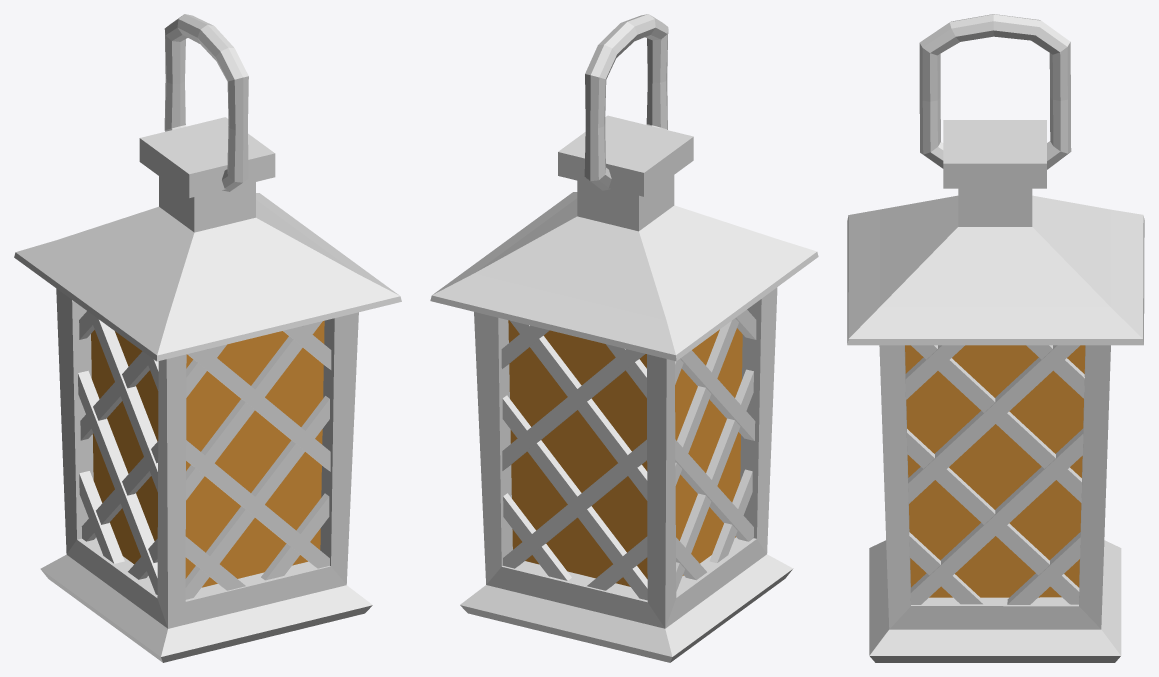
The model's file is SM_Lantern_Medium_Hanging_03.fbx.
The picture shows the model from 3 angles, left to right: view 1: azimuth 30°, elevation 25°; view 2: azimuth 150°, elevation 25°; view 3: azimuth 270°, elevation 25°; orthographic projection. The views are drawn at different scales.
Parts seen in each view (by area): view 1: Cube.121, Torus.006, Cube.147, Cube.127, Cube.123, Cube.126, Cube.122, Cube.146, Cube.149, Cube.129, Cube.151, Cube.150 (+3 smaller); view 2: Cube.121, Torus.006, Cube.143, Cube.139, Cube.142, Cube.138, Cube.151, Cube.147, Cube.150, Cube.146, Cube.145, Cube.153 (+4 smaller); view 3: Cube.121, Torus.006, Cube.155, Cube.154, Cube.159, Cube.158, Cube.157, Cube.161, Cube.156, Cube.160.
Part boxes in pixels (x1,y1,x2,y2): Cube.121: [14, 117, 401, 662]; Torus.006: [164, 14, 248, 191]; Cube.147: [78, 370, 157, 594]; Cube.127: [185, 396, 329, 599]; Cube.123: [186, 440, 329, 568]; Cube.126: [186, 321, 322, 500]; Cube.122: [187, 349, 330, 471]; Cube.146: [88, 311, 157, 491]; Cube.149: [79, 471, 124, 563]; Cube.129: [261, 493, 329, 580]; Cube.151: [81, 441, 158, 541]; Cube.150: [80, 351, 149, 440]; Cube.121: [430, 115, 818, 662]; Torus.006: [584, 14, 668, 190]; Cube.143: [502, 395, 647, 600]; Cube.139: [503, 439, 646, 568]; Cube.142: [510, 320, 647, 500]; Cube.138: [502, 349, 645, 470]; Cube.151: [676, 369, 753, 591]; Cube.147: [675, 439, 753, 541]; Cube.150: [675, 318, 738, 485]; Cube.146: [680, 350, 755, 440]; Cube.145: [503, 493, 571, 580]; Cube.153: [709, 469, 752, 562]; Cube.121: [847, 120, 1144, 662]; Torus.006: [919, 14, 1071, 169]; Cube.155: [910, 428, 1083, 604]; Cube.154: [908, 345, 1079, 503]; Cube.159: [907, 429, 1079, 604]; Cube.158: [911, 345, 1081, 502]; Cube.157: [1007, 532, 1080, 604]; Cube.161: [909, 532, 983, 604]; Cube.156: [905, 345, 964, 399]; Cube.160: [1026, 345, 1084, 398].
Bounding box in the file's own units: 45.36 × 101 × 45.53.
